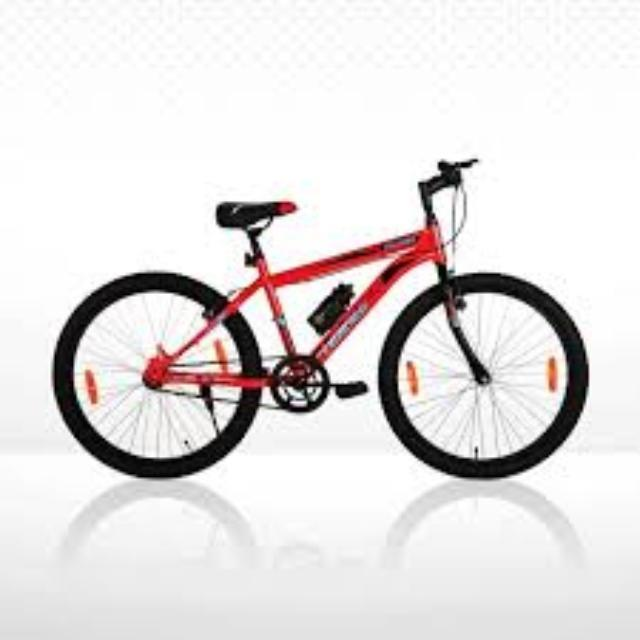obstacle: (39, 148, 603, 502)
